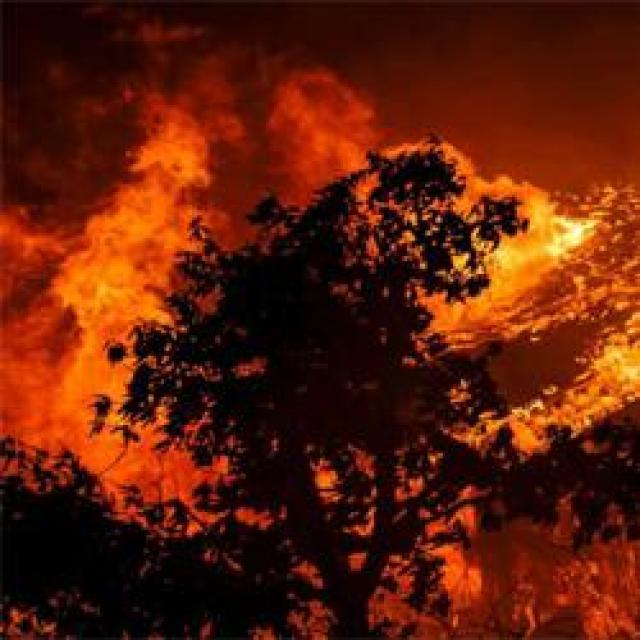Fire: (0, 33, 241, 540), (426, 156, 640, 464), (333, 522, 640, 640)
Smoke: (216, 39, 388, 236)
